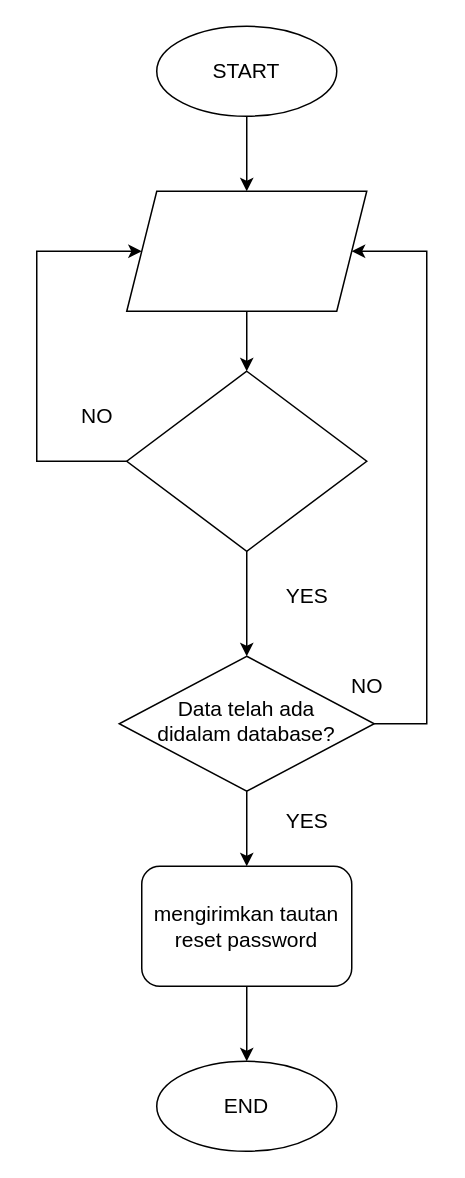
Image size: 465x1178. Some labels were removed from this diagram. The shapes that lost their labels are listed below. From the top down, each one's centre as x and y in pixels, then its label:
At point 246,250: "masukan email akun".
At point 246,460: "Data valid".
